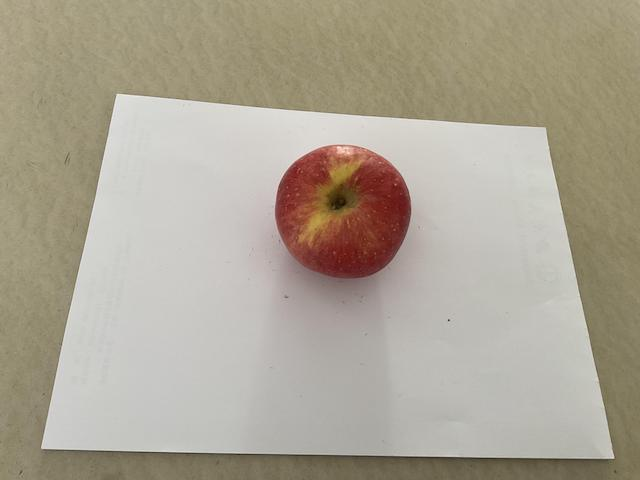apple: (271, 140, 414, 283)
